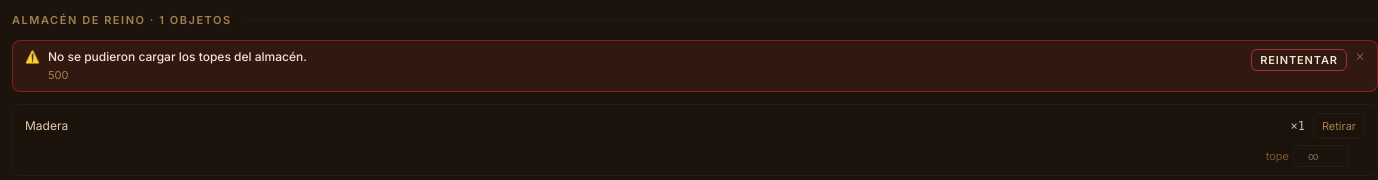
AlmacenSection — P225 fallo de carga de topes › si fallan los topes avisa con Reintentar y al reintentar los carga
This screenshot has width=1378, height=180.
Expected: the message shows "No se pudieron cargar los topes del almacén.", [48, 49, 307, 64]
Step 1. Click the button "Reintentar" → (1299, 60), box [1251, 49, 1347, 71]
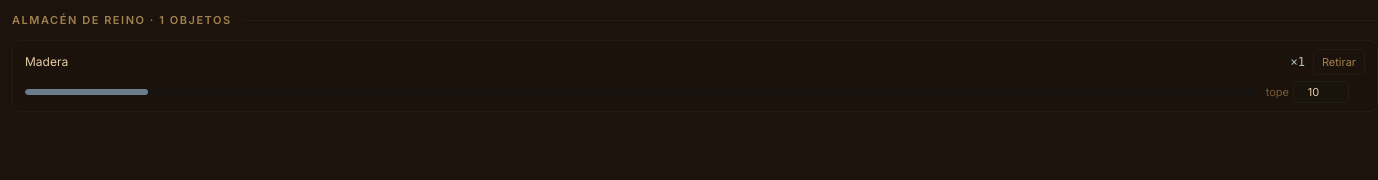
Expected: the number field named "Tope de Madera" holds "10", [1293, 81, 1349, 103]
